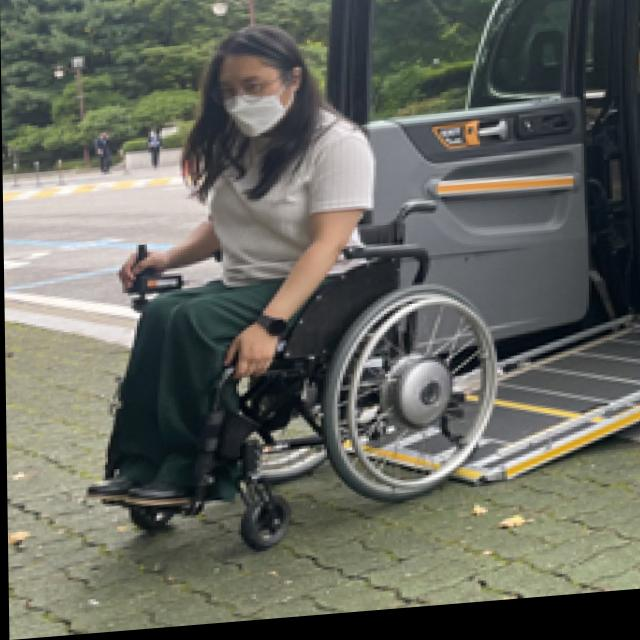wheelchair: (83, 14, 499, 561)
